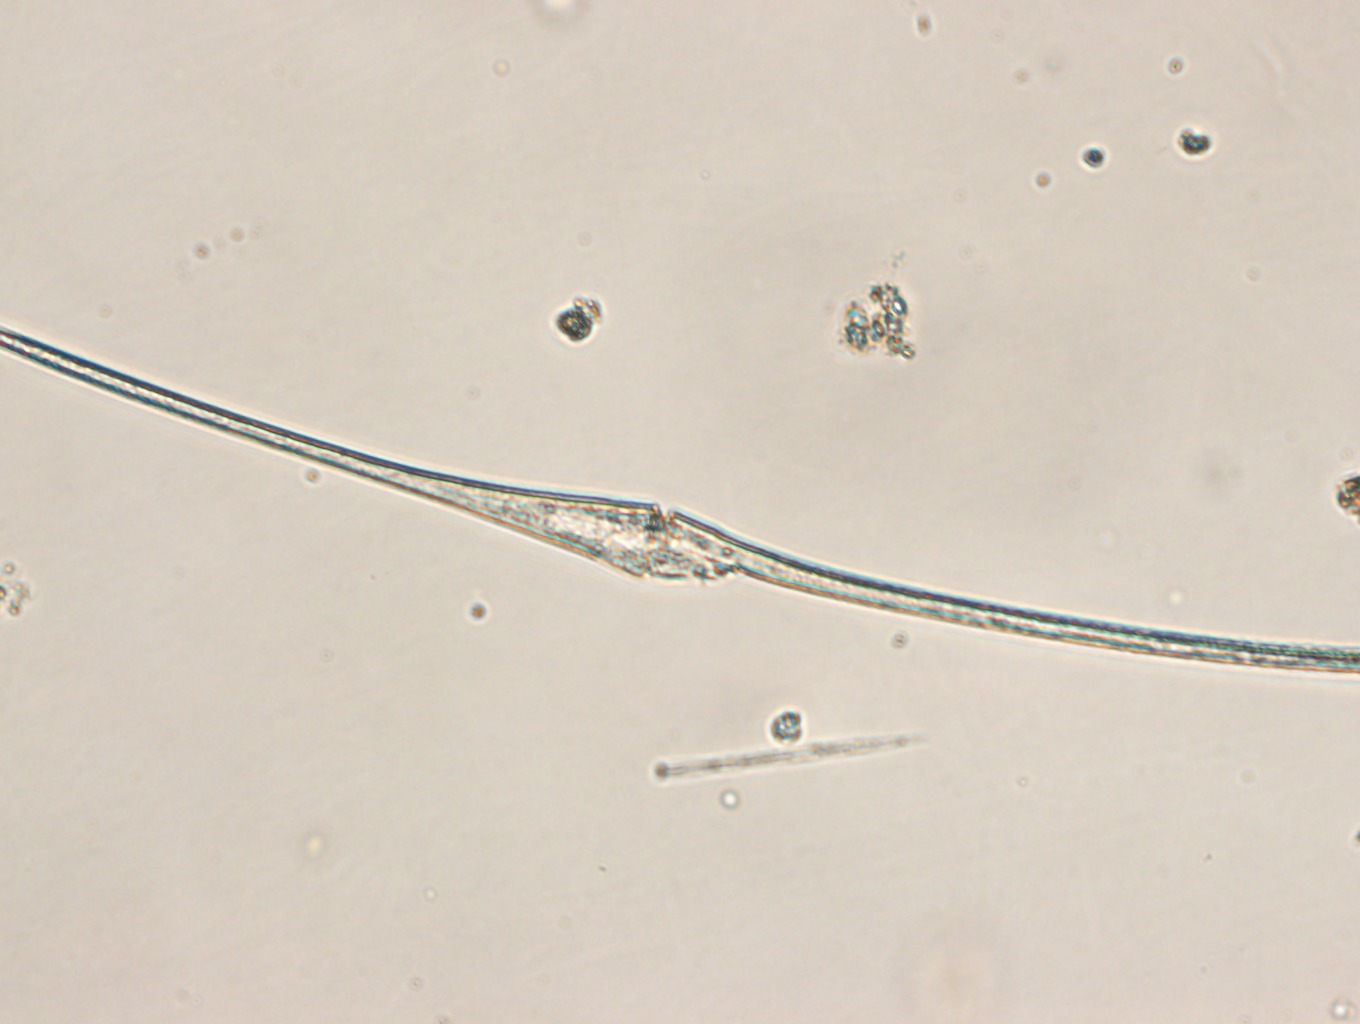ceratium fusus: (1, 321, 1359, 689)
